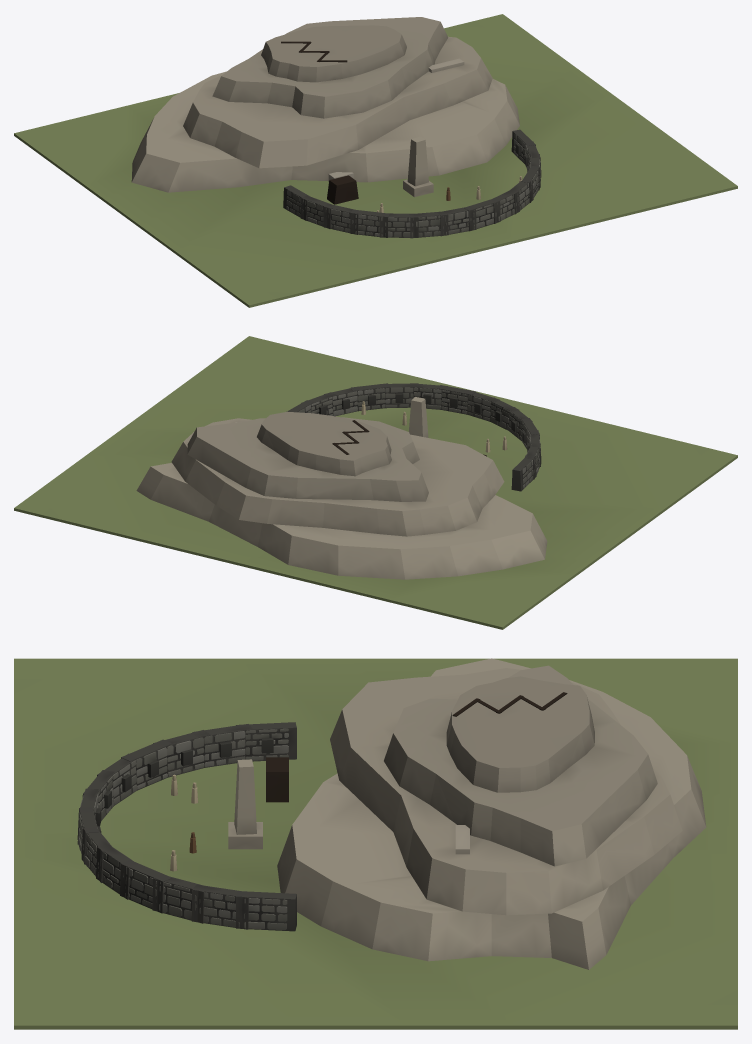
Rendered from qenqo.glb.
3 renders of one model, top to bottom at view 1: azimuth 30°, elevation 25°; view 2: azimuth 150°, elevation 25°; view 3: azimuth 270°, elevation 25°, orthographic. The views are drawn at different scales.
Parts seen in each view (by area): view 1: p0_rock, p1_walls, p2_stone; view 2: p0_rock, p1_walls, p2_stone; view 3: p0_rock, p1_walls, p2_stone.
Boxes of the visible parts, left/top/right/bottom form: p0_rock: left=14, top=14, right=737, bottom=307; p1_walls: left=281, top=41, right=541, bottom=238; p2_stone: left=377, top=136, right=522, bottom=212; p0_rock: left=14, top=336, right=737, bottom=629; p1_walls: left=235, top=383, right=541, bottom=491; p2_stone: left=361, top=397, right=507, bottom=452; p0_rock: left=14, top=658, right=737, bottom=1029; p1_walls: left=77, top=692, right=567, bottom=931; p2_stone: left=170, top=759, right=262, bottom=871.
Size of the model in its own units: 60 by 9.77 by 50.
